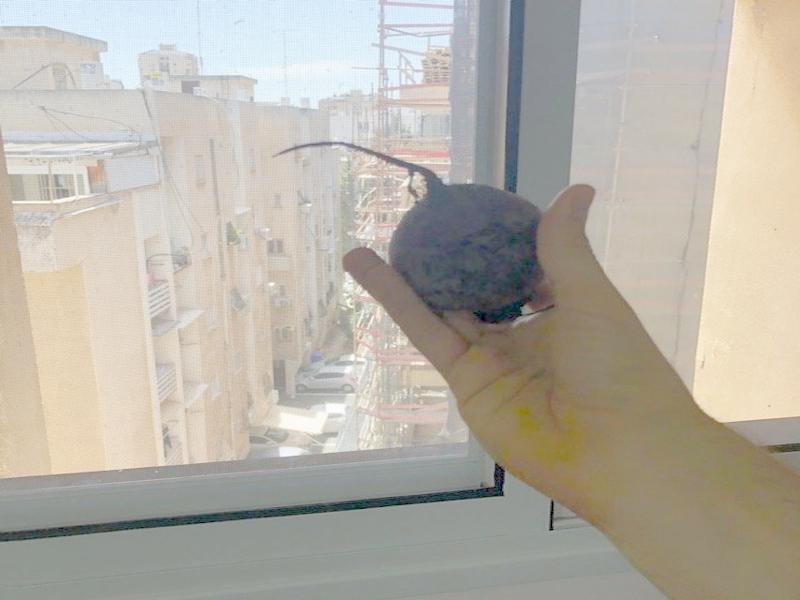Beet: (270, 139, 540, 322)
